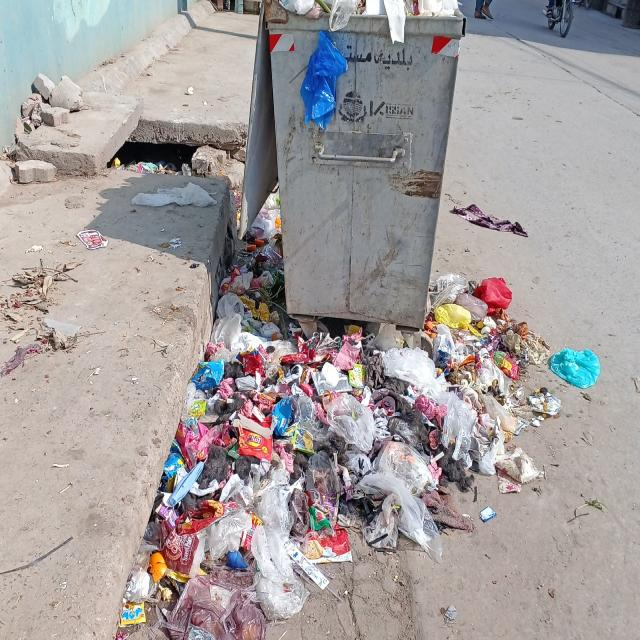garbage: (300, 321, 610, 545), (226, 226, 298, 639), (134, 342, 224, 638), (292, 28, 364, 148), (258, 0, 468, 41), (111, 146, 223, 216), (427, 268, 516, 321), (450, 199, 530, 245), (64, 214, 118, 264)
